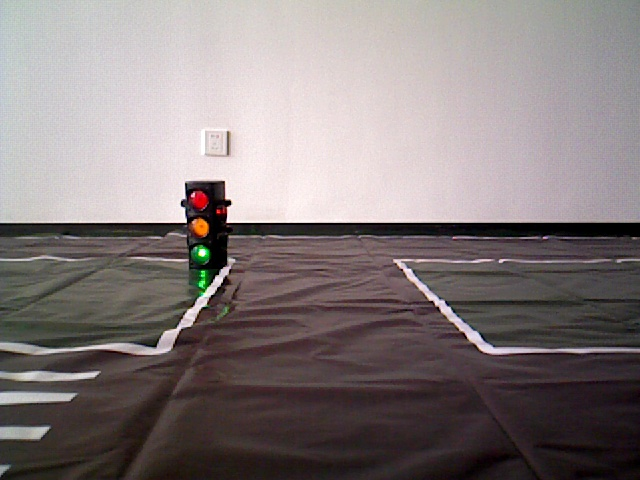green: (185, 181, 225, 264)
